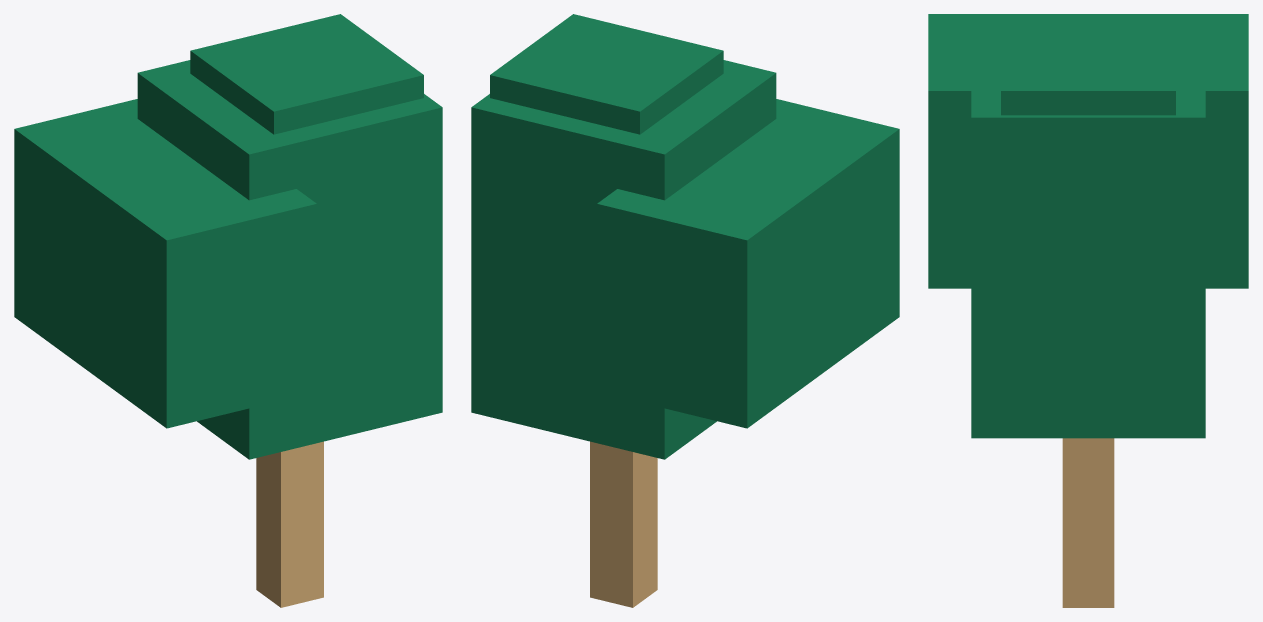
Rendered from Box_Tree_01.fbx.
3 views of the same model, side by side, from view 1: azimuth 30°, elevation 25°; view 2: azimuth 150°, elevation 25°; view 3: azimuth 270°, elevation 25° (orthographic). The views are drawn at different scales.
Visible parts, largest first — view 1: Box_Tree_01_1, Box_Tree_02_2; view 2: Box_Tree_01_1, Box_Tree_02_2; view 3: Box_Tree_01_1, Box_Tree_02_2.
Part boxes in pixels (x1=…): Box_Tree_01_1: x1=14, y1=14, x2=442, y2=459; Box_Tree_02_2: x1=256, y1=441, x2=323, y2=607; Box_Tree_01_1: x1=471, y1=14, x2=899, y2=459; Box_Tree_02_2: x1=590, y1=441, x2=657, y2=607; Box_Tree_01_1: x1=928, y1=14, x2=1248, y2=438; Box_Tree_02_2: x1=1062, y1=438, x2=1114, y2=607.
Size of the model in its own units: 35.74 by 60.71 by 31.84.
